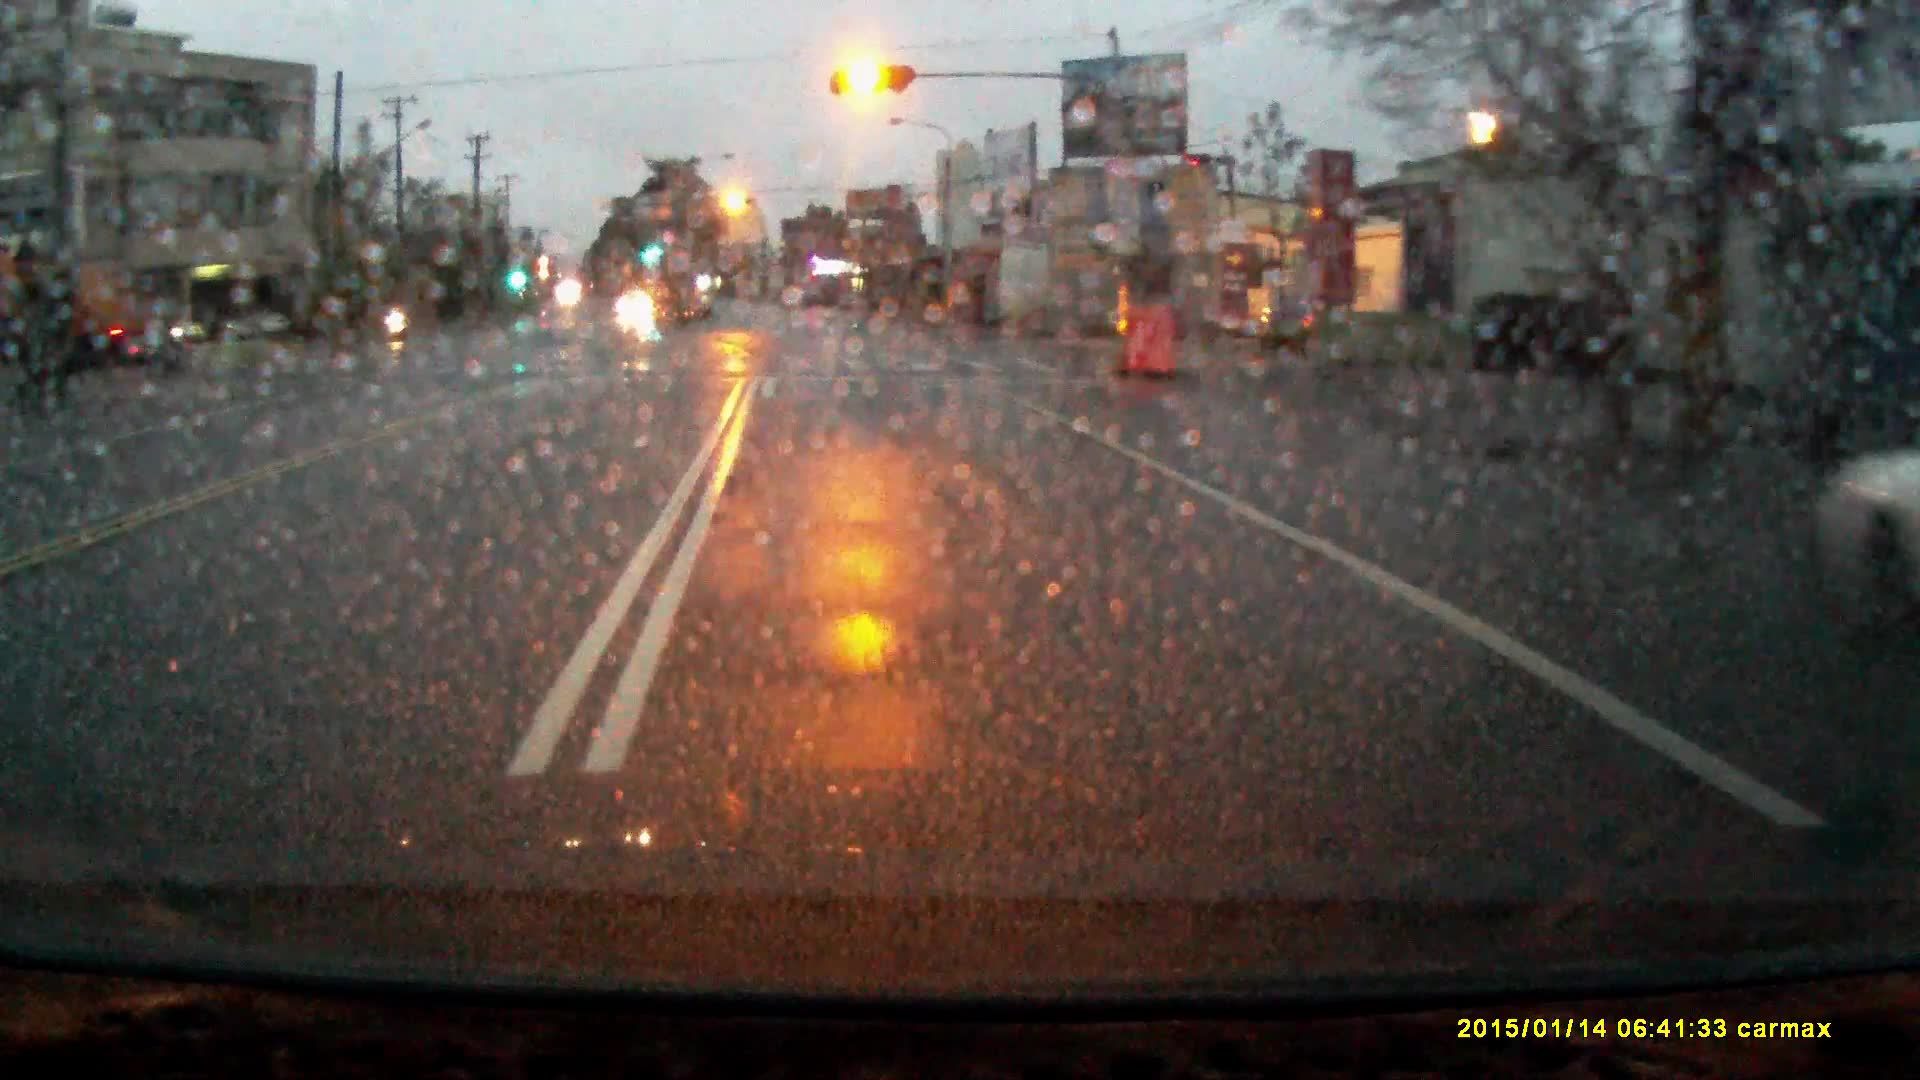rider: (381, 278, 409, 344)
vehicle: (1, 258, 141, 366), (618, 289, 654, 317)
